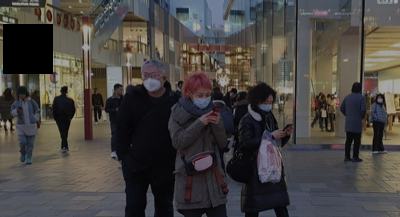with_mask: (142, 70, 164, 92), (192, 90, 212, 109), (259, 99, 274, 112), (376, 96, 384, 102), (94, 89, 98, 92)
without_mask: (116, 87, 124, 94), (229, 92, 237, 99), (18, 92, 26, 98)
